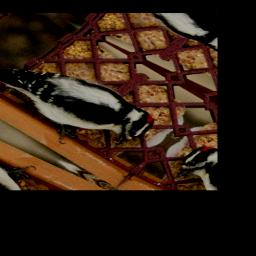Woodpecker: (0, 44, 163, 167)
